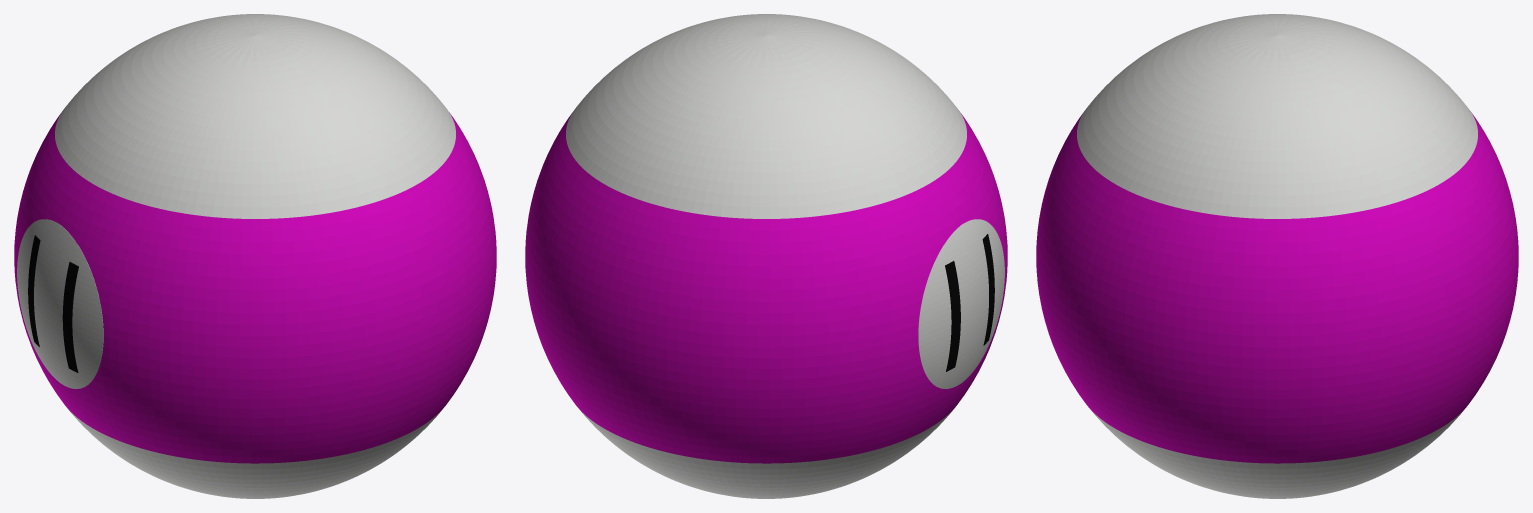
Rendered from Ball#11.fbx.
3 renders of one model, left to right at view 1: azimuth 30°, elevation 25°; view 2: azimuth 150°, elevation 25°; view 3: azimuth 270°, elevation 25°, orthographic.
Visible parts, largest first — view 1: Sphere, Sphere.001, Text; view 2: Sphere, Sphere.001, Text; view 3: Sphere.
Part boxes in pixels (x1,y1,x2,y2): Sphere: (14,14,496,498); Sphere.001: (17,219,103,388); Text: (28,235,78,372); Sphere: (525,14,1007,498); Sphere.001: (918,219,1004,388); Text: (945,234,994,371); Sphere: (1036,14,1518,498).
Bounding box in the file's own units: 198 × 200 × 198.
